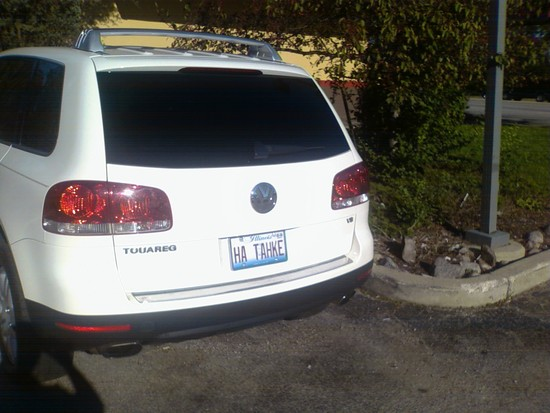license plate: (228, 229, 287, 270)
